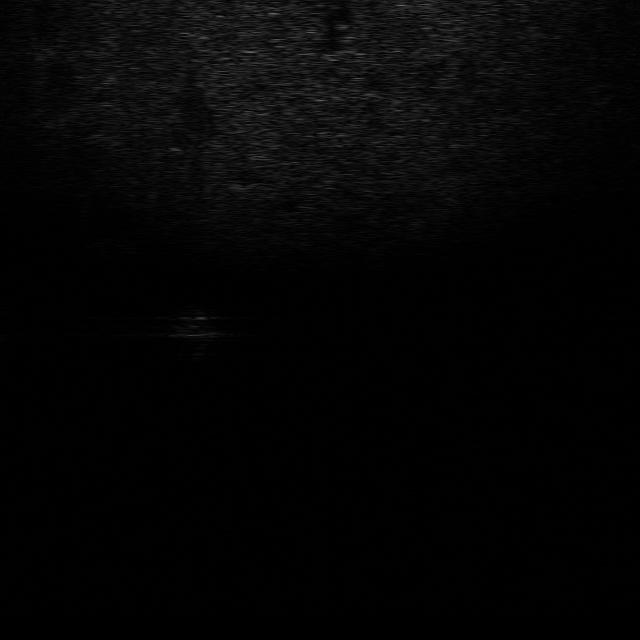human body: (170, 299, 225, 362)
